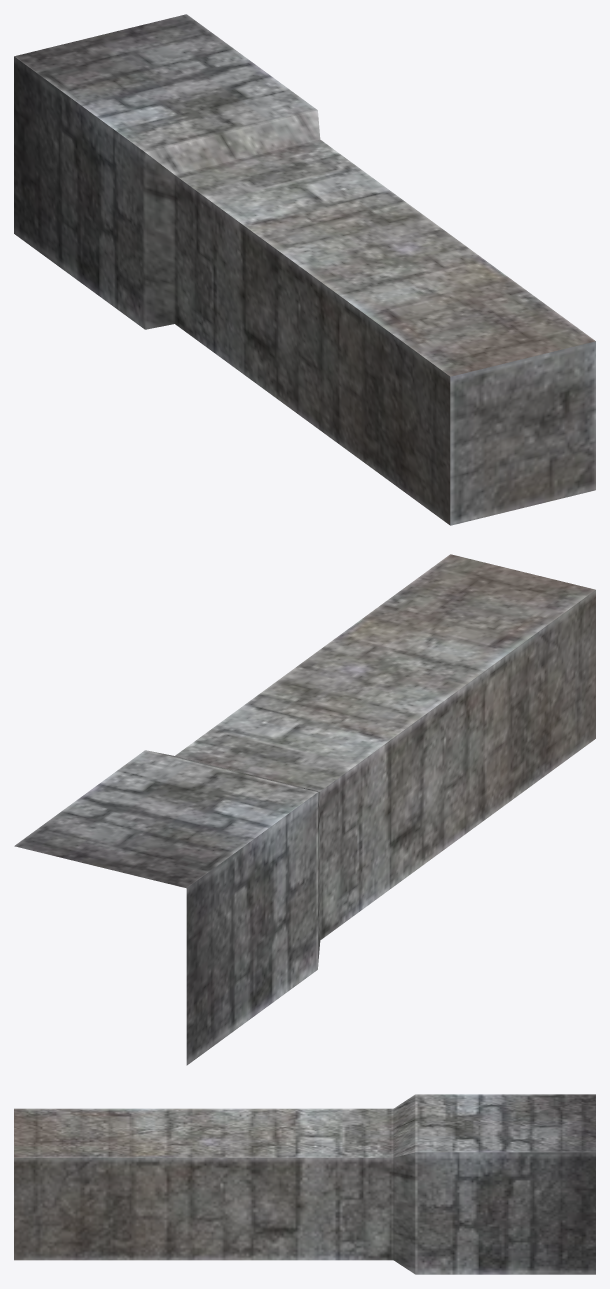
The picture shows the model from 3 angles, top to bottom: view 1: azimuth 30°, elevation 25°; view 2: azimuth 150°, elevation 25°; view 3: azimuth 270°, elevation 25°; orthographic projection. The views are drawn at different scales.
Parts seen in each view (by area): view 1: model_Object09; view 2: model_Object09; view 3: model_Object09.
Boxes of the visible parts, box(x1,y1,x2,y2) form: model_Object09: box(14, 14, 595, 525); model_Object09: box(14, 554, 595, 1065); model_Object09: box(14, 1094, 595, 1274).
Bounding box in the file's own units: 0.3929 × 0.3857 × 1.67.
Materials: 1 (1 with a texture image).
